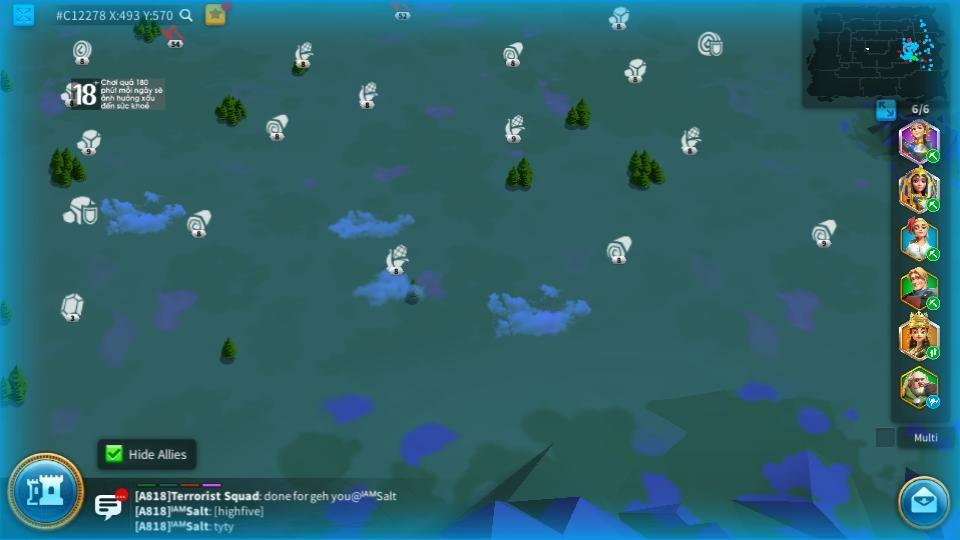gem-z-out: (57, 294, 87, 321)
march_farming: (924, 197, 939, 212), (925, 149, 941, 162), (926, 297, 941, 308)
march_idle: (925, 396, 941, 408)
march_marching: (925, 345, 941, 359)
